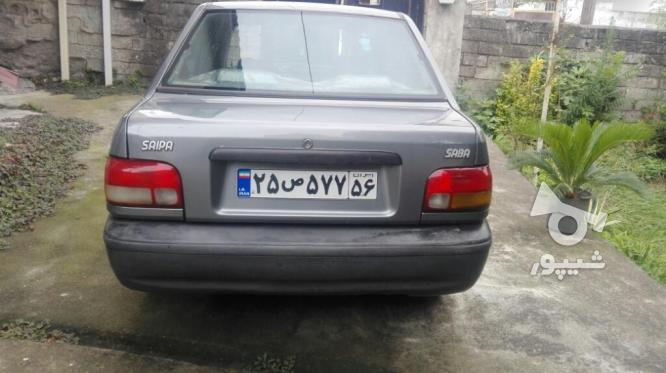car: (238, 167, 381, 196)
